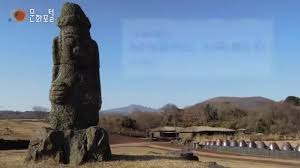Stone Statue: (25, 2, 114, 168)
